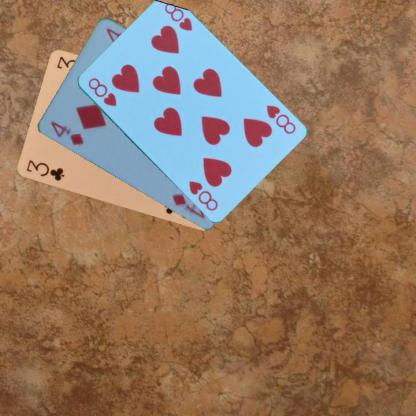3c: (23, 157, 66, 183)
4d: (47, 118, 85, 147)
8h: (263, 102, 297, 135), (85, 75, 117, 108)
